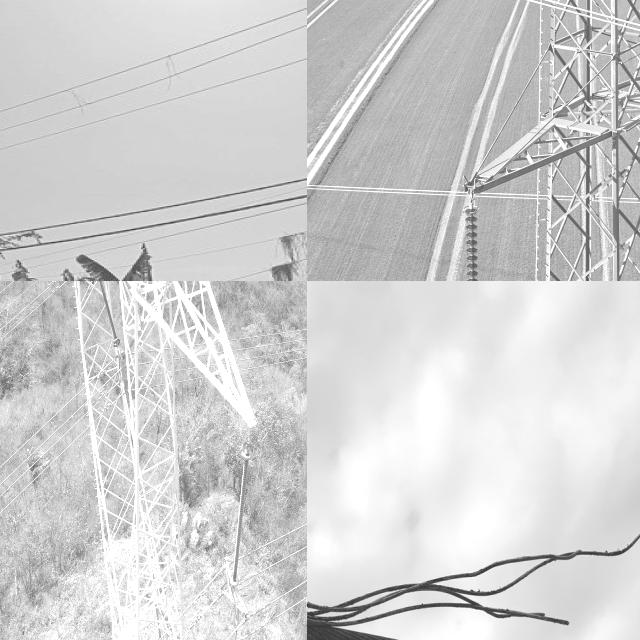杆塔: (41, 281, 273, 640), (406, 0, 640, 281)
植被遮挡: (54, 81, 101, 120), (161, 41, 189, 99)
正常电缆: (307, 176, 640, 213)
正常绝缘子: (230, 432, 253, 610), (458, 192, 489, 281), (97, 281, 121, 349)
电缆破损: (307, 507, 640, 640)
